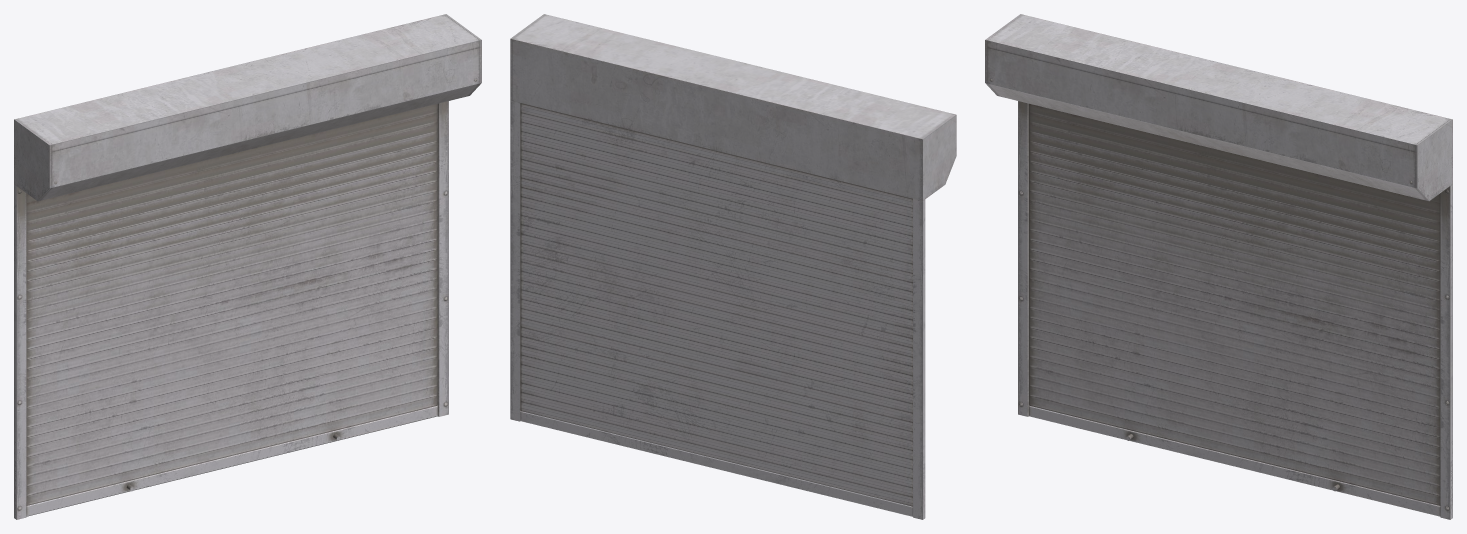
Rendered from RollerShutterWindow.obj.
The picture shows the model from 3 angles, left to right: view 1: azimuth 30°, elevation 25°; view 2: azimuth 150°, elevation 25°; view 3: azimuth 330°, elevation 25°; orthographic projection. The views are drawn at different scales.
Parts seen in each view (by area): view 1: rollershutter_window_01; view 2: rollershutter_window_01; view 3: rollershutter_window_01.
Part boxes in pixels (x1,y1,x2,y2): rollershutter_window_01: [14, 14, 481, 519]; rollershutter_window_01: [510, 14, 956, 519]; rollershutter_window_01: [985, 14, 1452, 519].
Size of the model in its own units: 2.1 by 1.85 by 0.3.
1 material, 1 textured.
